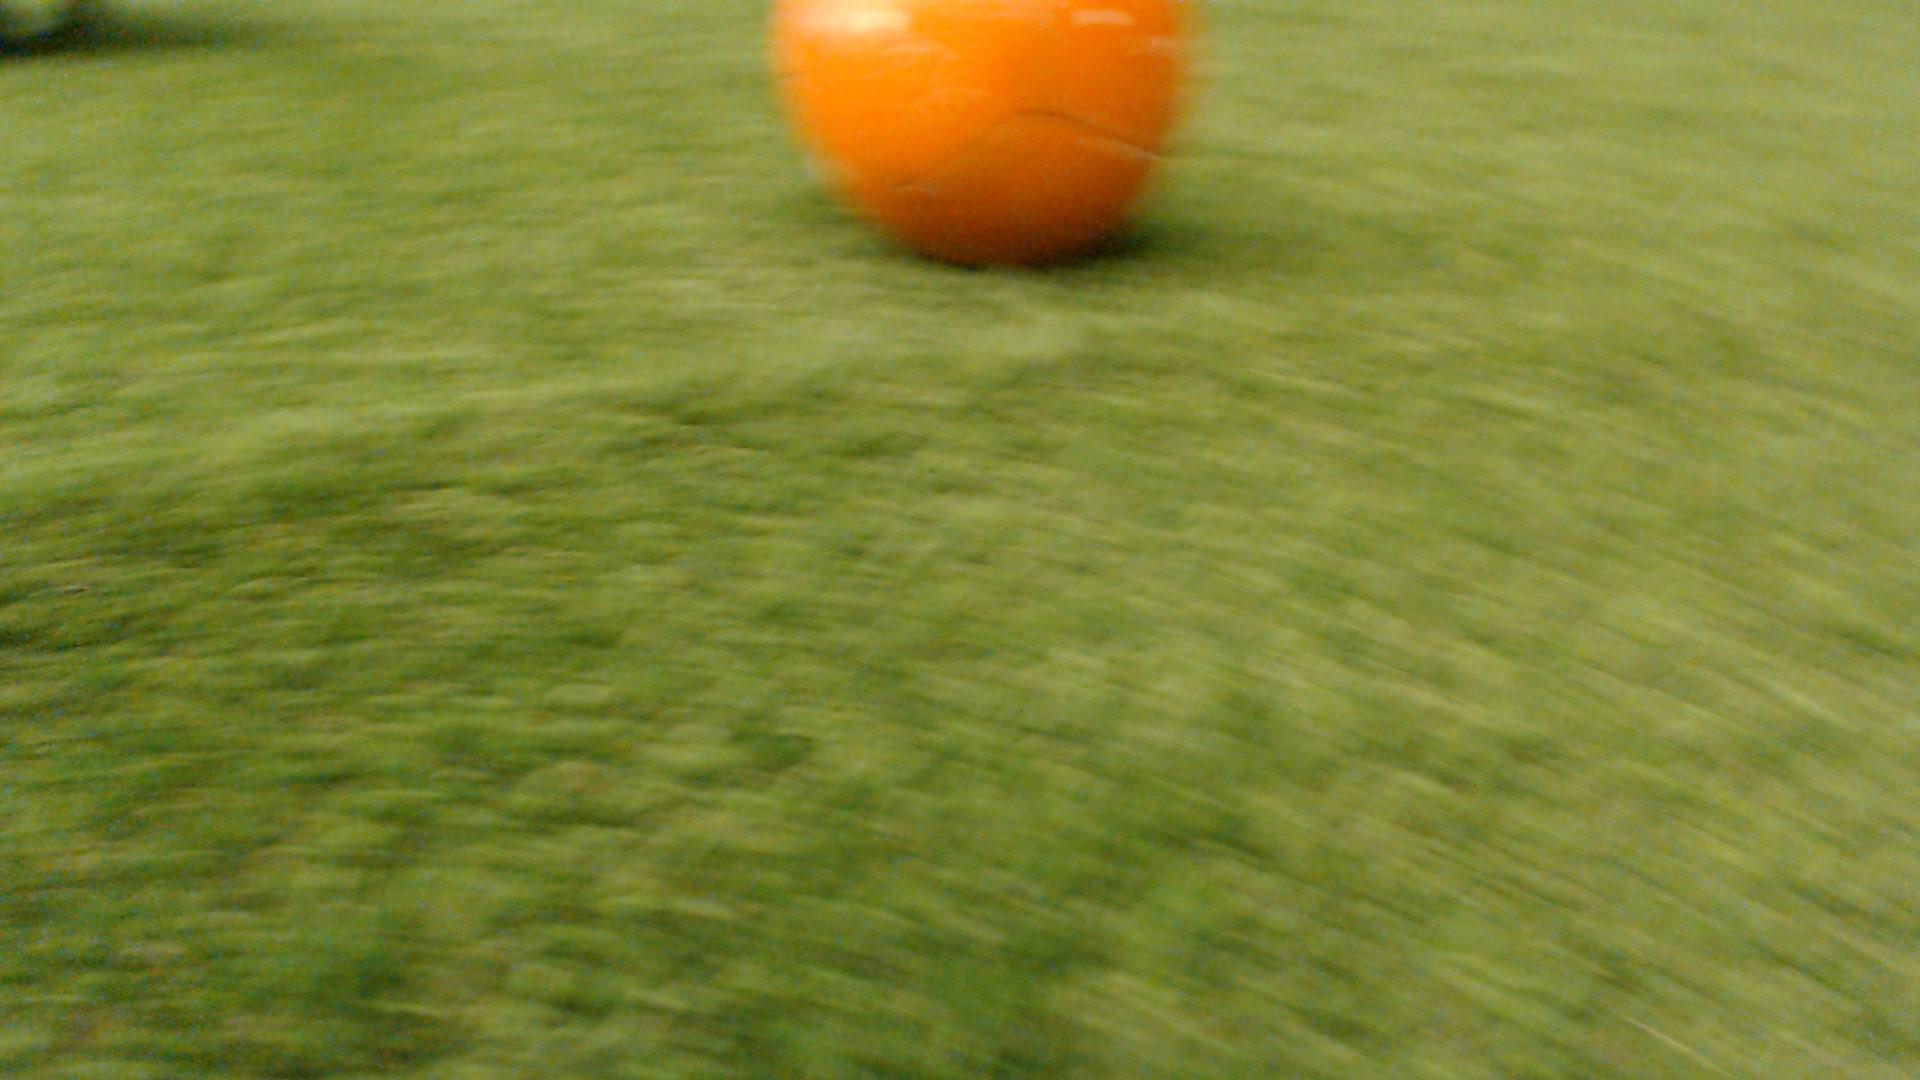bola: (735, 0, 1218, 305)
